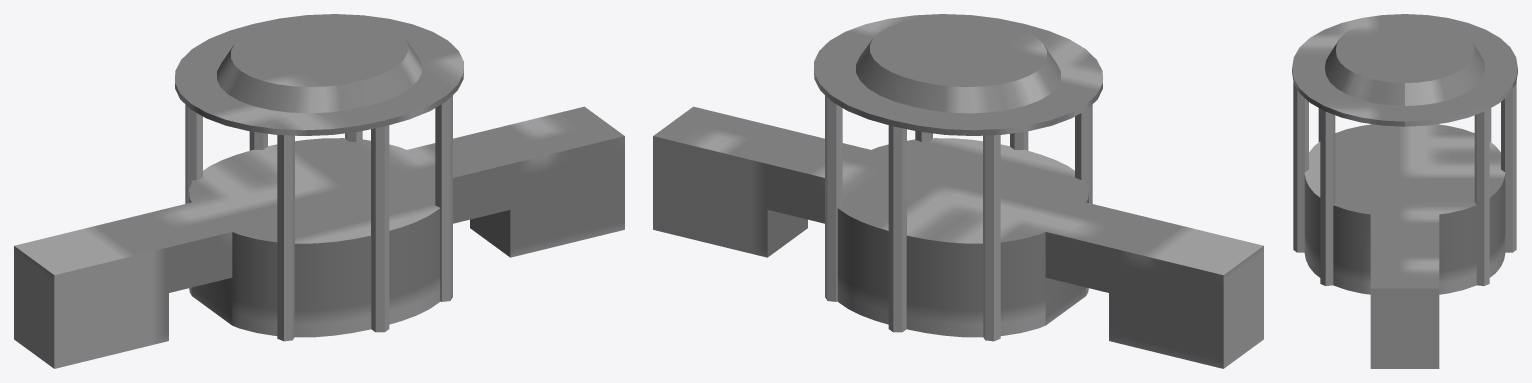
The model's file is prop_Bridge.fbx.
3 views of the same model, side by side, from view 1: azimuth 30°, elevation 25°; view 2: azimuth 150°, elevation 25°; view 3: azimuth 270°, elevation 25° (orthographic). The views are drawn at different scales.
Visible parts, largest first — view 1: prop_Bridge; view 2: prop_Bridge; view 3: prop_Bridge.
Part boxes in pixels (x1,y1,x2,y2): prop_Bridge: (14, 14, 624, 368); prop_Bridge: (653, 14, 1263, 368); prop_Bridge: (1292, 14, 1517, 368).
Bounding box in the file's own units: 3842 × 1501 × 1538.
